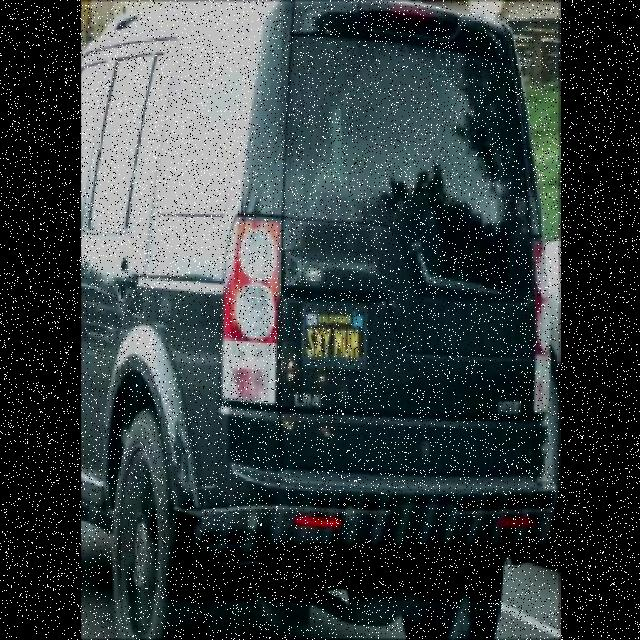licenseplate: (302, 300, 367, 372)
